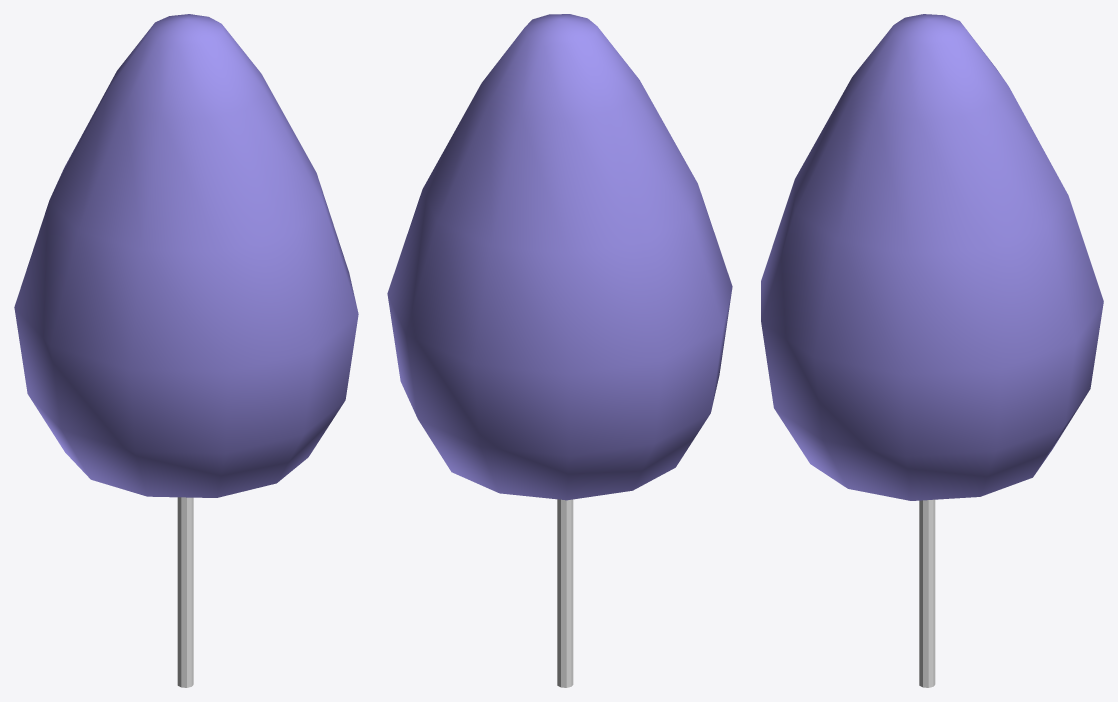
Rendered from 020_Candy_Tree_022.fbx.
3 renders of one model, left to right at view 1: azimuth 30°, elevation 25°; view 2: azimuth 150°, elevation 25°; view 3: azimuth 270°, elevation 25°, orthographic.
Parts seen in each view (by area): view 1: Sphere.055, Cylinder.023; view 2: Sphere.055, Cylinder.023; view 3: Sphere.055, Cylinder.023.
Boxes of the visible parts, box(x1,y1,x2,y2) form: Sphere.055: box(14, 14, 358, 497); Cylinder.023: box(177, 497, 193, 687); Sphere.055: box(387, 14, 732, 500); Cylinder.023: box(557, 499, 573, 687); Sphere.055: box(761, 14, 1103, 500); Cylinder.023: box(919, 499, 935, 687).
Size of the model in its own units: 119 by 252 by 118.
